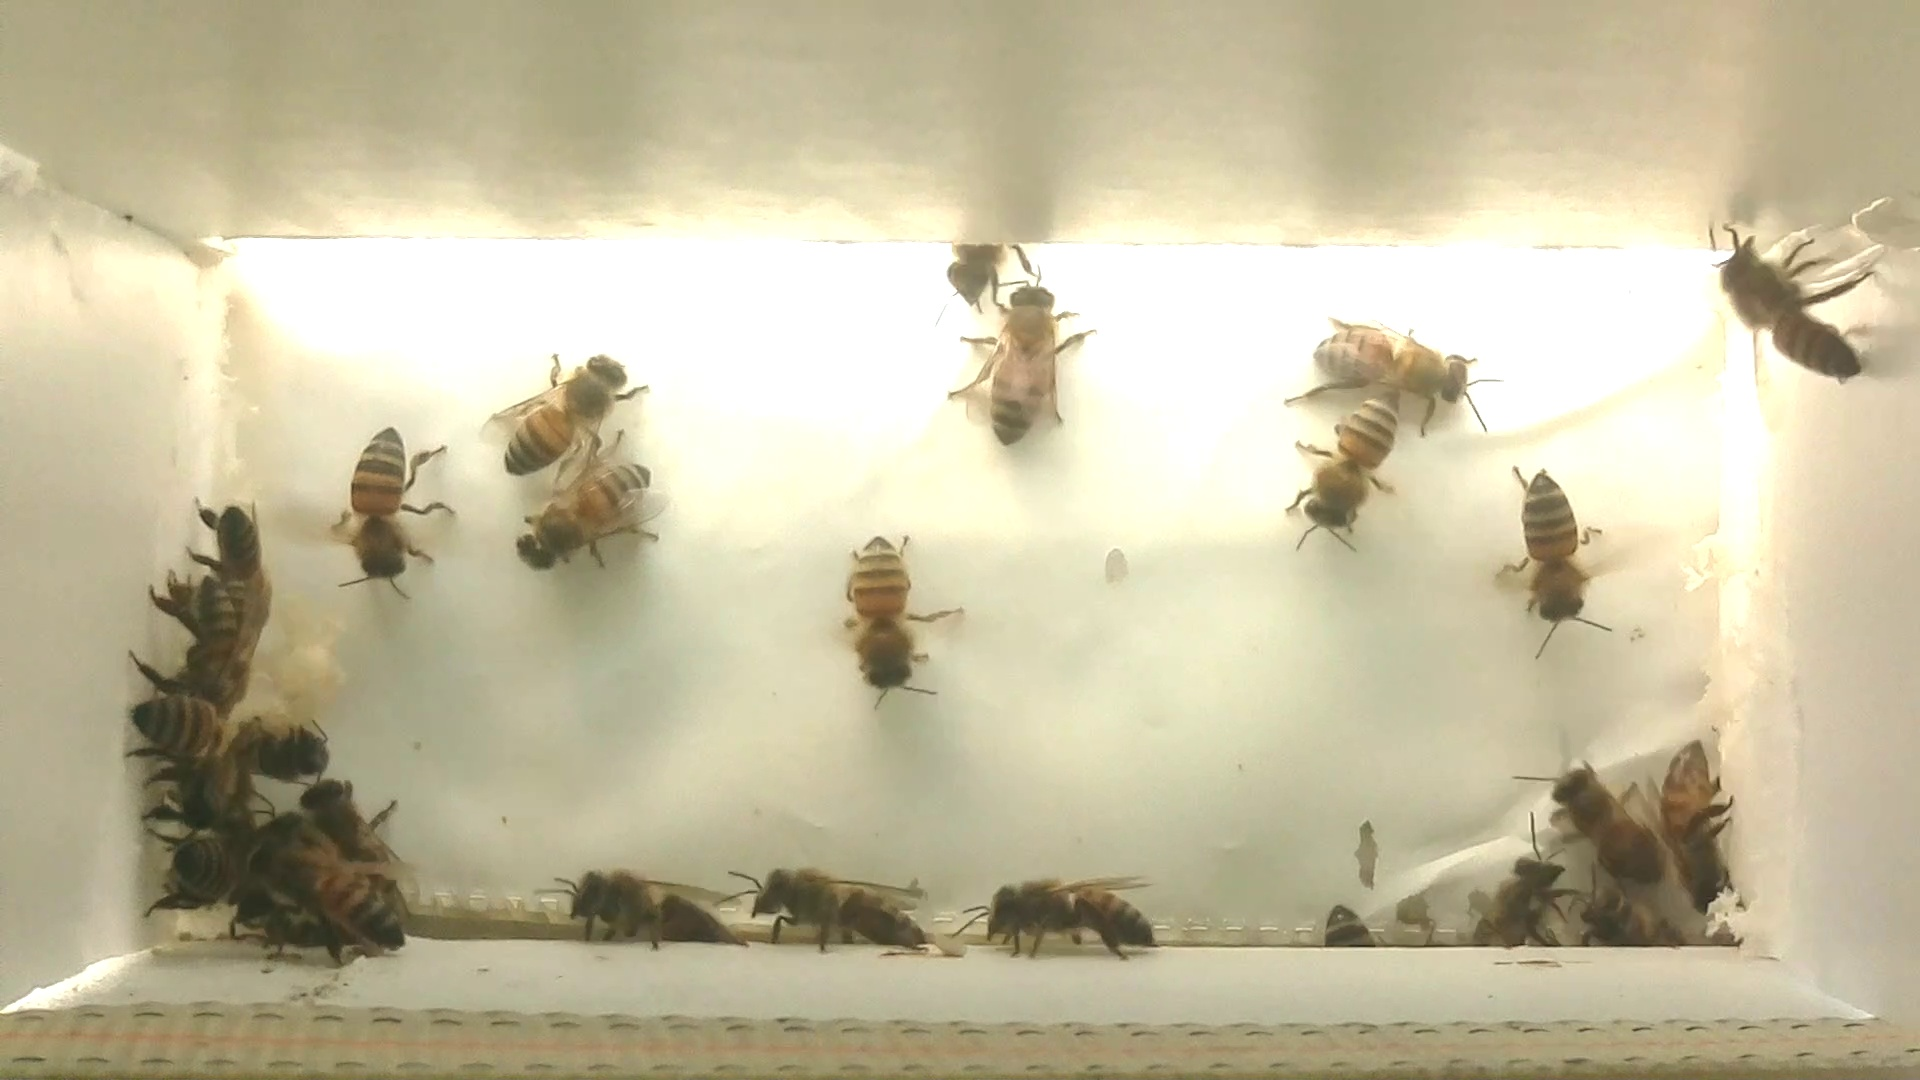bee: (1687, 216, 1892, 413), (294, 404, 468, 600), (814, 525, 992, 709), (1273, 301, 1507, 440), (1478, 460, 1634, 665), (473, 440, 694, 580), (459, 334, 662, 484), (705, 840, 942, 967), (1266, 385, 1429, 564), (932, 851, 1166, 971), (942, 274, 1093, 454), (233, 820, 411, 961), (1514, 735, 1662, 891), (543, 853, 749, 960), (291, 771, 429, 931), (1646, 738, 1751, 944), (146, 570, 276, 717), (102, 647, 232, 775), (171, 487, 293, 609), (1466, 839, 1572, 967), (124, 820, 253, 919), (928, 225, 1051, 330), (219, 705, 342, 790), (1573, 874, 1683, 963), (1312, 887, 1393, 961)
